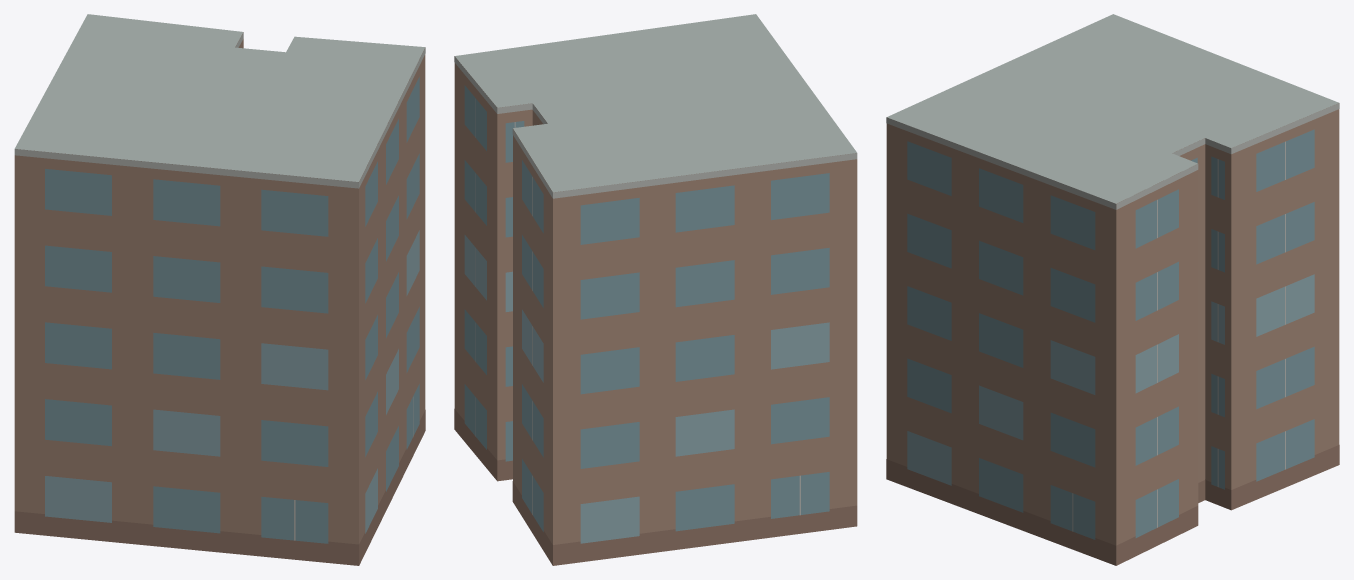
The model's file is survey-upis-32887611.glb.
3 views of the same model, side by side, from view 1: azimuth 30°, elevation 25°; view 2: azimuth 150°, elevation 25°; view 3: azimuth 270°, elevation 25° (orthographic). The views are drawn at different scales.
Visible parts, largest first — view 1: survey-upis-32887611.tmp; view 2: survey-upis-32887611.tmp; view 3: survey-upis-32887611.tmp.
Part boxes in pixels (x1,y1,x2,y2): survey-upis-32887611.tmp: (14,14,425,565); survey-upis-32887611.tmp: (454,14,857,565); survey-upis-32887611.tmp: (886,14,1339,565).
Bounding box in the file's own units: 16.26 × 14.45 × 16.39.
